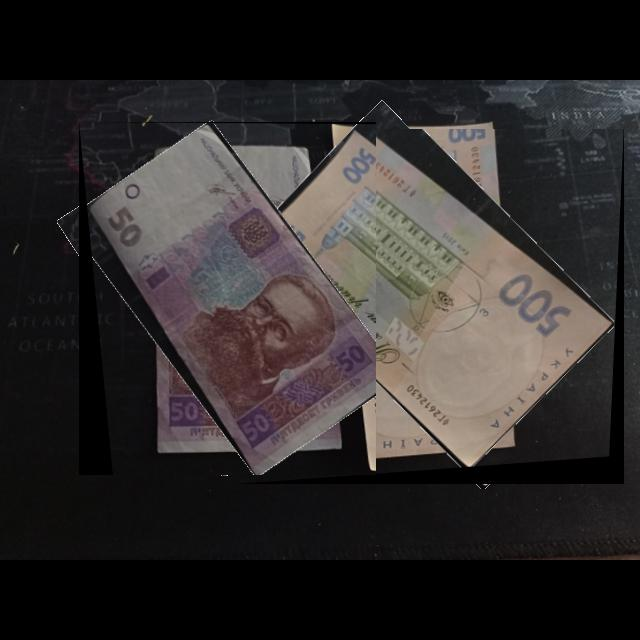500uah: (239, 129, 617, 471)
50uah: (86, 123, 377, 476)
